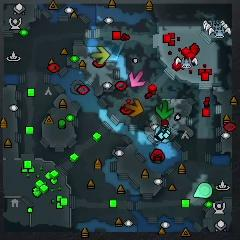p2: (193, 183, 212, 199)
x1: (129, 72, 146, 87)
x2: (92, 47, 110, 64)
x3: (155, 127, 171, 143)
x4: (155, 101, 174, 119)
x5: (127, 99, 144, 118)
